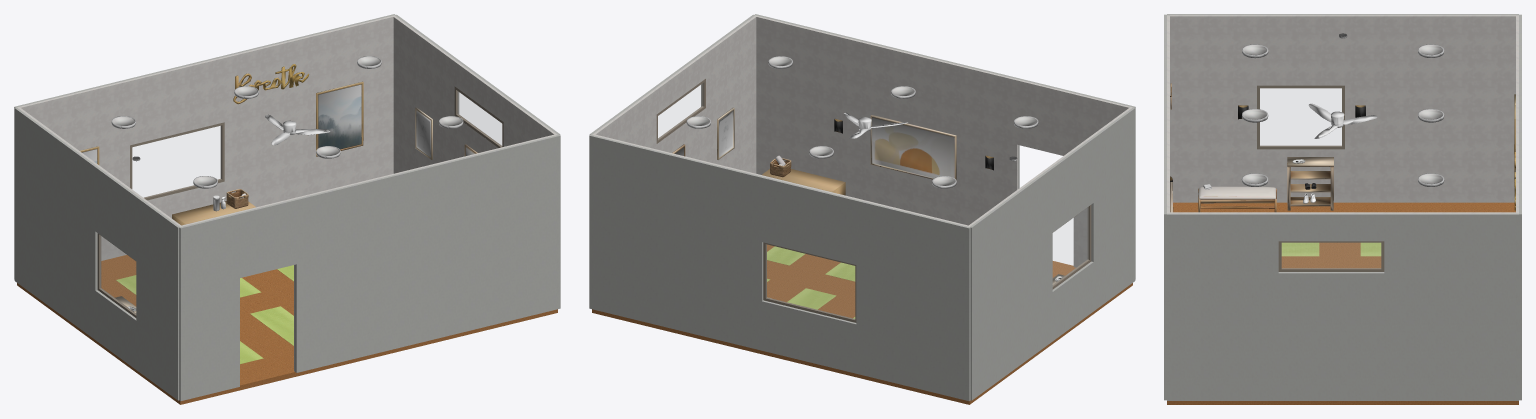
Rendered from scene_named.glb.
3 views of the same model, side by side, from view 1: azimuth 30°, elevation 25°; view 2: azimuth 150°, elevation 25°; view 3: azimuth 270°, elevation 25° (orthographic). The views are drawn at different scales.
Parts seen in each view (by area): view 1: south_wall_exterior_yoga_studio/south_wall_exterior_yoga_stu, north_wall_yoga_studio/north_wall_yoga_studio/geometry_0, west_wall_exterior_yoga_studio/west_wall_exterior_yoga_studi, east_wall_yoga_studio/east_wall_yoga_studio/geometry_0, floor_yoga_studio, window_1_yoga_studio/window_1_yoga_studio/glass, photo_print_1, window_2_yoga_studio/window_2_yoga_studio/glass, window_3_yoga_studio/window_3_yoga_studio/glass, south_wall_yoga_studio/south_wall_yoga_studio/geometry_0, window_1_yoga_studio/window_1_yoga_studio/frame, north_wall_exterior_yoga_studio/north_wall_exterior_yoga_stu (+9 smaller); view 2: north_wall_exterior_yoga_studio/north_wall_exterior_yoga_stu, south_wall_yoga_studio/south_wall_yoga_studio/geometry_0, west_wall_exterior_yoga_studio/west_wall_exterior_yoga_studi, east_wall_yoga_studio/east_wall_yoga_studio/geometry_0, floor_yoga_studio, window_1_yoga_studio/window_1_yoga_studio/glass, wall_art_0, window_2_yoga_studio/window_2_yoga_studio/glass, window_3_yoga_studio/window_3_yoga_studio/glass, south_wall_exterior_yoga_studio/south_wall_exterior_yoga_stu, cubby_unit_0, window_1_yoga_studio/window_1_yoga_studio/frame (+7 smaller); view 3: east_wall_exterior_yoga_studio/east_wall_exterior_yoga_studi, west_wall_yoga_studio/west_wall_yoga_studio/geometry_0, floor_yoga_studio, window_2_yoga_studio/window_2_yoga_studio/glass, window_3_yoga_studio/window_3_yoga_studio/glass, shoe_cubby_shelf_0, entry_bench_0, north_wall_exterior_yoga_studio/north_wall_exterior_yoga_stu, south_wall_exterior_yoga_studio/south_wall_exterior_yoga_stu, window_2_yoga_studio/window_2_yoga_studio/frame, window_3_yoga_studio/window_3_yoga_studio/frame, ceiling_fan_0 (+6 smaller).
Part boxes in pixels (x1,y1,x2,y2): south_wall_exterior_yoga_studio/south_wall_exterior_yoga_stu: (179, 135, 560, 401); north_wall_yoga_studio/north_wall_yoga_studio/geometry_0: (19, 16, 393, 260); west_wall_exterior_yoga_studio/west_wall_exterior_yoga_studi: (14, 107, 179, 400); east_wall_yoga_studio/east_wall_yoga_studio/geometry_0: (392, 15, 557, 173); floor_yoga_studio: (17, 255, 557, 404); window_1_yoga_studio/window_1_yoga_studio/glass: (132, 126, 220, 197); photo_print_1: (316, 81, 363, 156); window_2_yoga_studio/window_2_yoga_studio/glass: (100, 235, 135, 313); window_3_yoga_studio/window_3_yoga_studio/glass: (457, 91, 501, 146); south_wall_yoga_studio/south_wall_yoga_studio/geometry_0: (181, 134, 555, 371); window_1_yoga_studio/window_1_yoga_studio/frame: (130, 122, 224, 200); north_wall_exterior_yoga_studio/north_wall_exterior_yoga_stu: (14, 14, 395, 279); north_wall_exterior_yoga_studio/north_wall_exterior_yoga_stu: (589, 135, 970, 401); south_wall_yoga_studio/south_wall_yoga_studio/geometry_0: (756, 16, 1130, 267); west_wall_exterior_yoga_studio/west_wall_exterior_yoga_studi: (970, 107, 1135, 400); east_wall_yoga_studio/east_wall_yoga_studio/geometry_0: (592, 15, 757, 173); floor_yoga_studio: (592, 244, 1132, 404); window_1_yoga_studio/window_1_yoga_studio/glass: (766, 245, 854, 318); wall_art_0: (870, 115, 956, 180); window_2_yoga_studio/window_2_yoga_studio/glass: (1053, 207, 1088, 285); window_3_yoga_studio/window_3_yoga_studio/glass: (658, 83, 703, 138); south_wall_exterior_yoga_studio/south_wall_exterior_yoga_stu: (754, 14, 1135, 279); cubby_unit_0: (762, 169, 845, 195); window_1_yoga_studio/window_1_yoga_studio/frame: (763, 242, 856, 322); east_wall_exterior_yoga_studio/east_wall_exterior_yoga_studi: (1167, 213, 1518, 400); west_wall_yoga_studio/west_wall_yoga_studio/geometry_0: (1167, 15, 1518, 202); floor_yoga_studio: (1167, 202, 1518, 404); window_2_yoga_studio/window_2_yoga_studio/glass: (1260, 88, 1341, 145); window_3_yoga_studio/window_3_yoga_studio/glass: (1282, 243, 1380, 268); shoe_cubby_shelf_0: (1287, 157, 1333, 210); entry_bench_0: (1198, 186, 1276, 212); north_wall_exterior_yoga_studio/north_wall_exterior_yoga_stu: (1519, 14, 1521, 400); south_wall_exterior_yoga_studio/south_wall_exterior_yoga_stu: (1164, 14, 1166, 400); window_2_yoga_studio/window_2_yoga_studio/frame: (1257, 85, 1344, 149); window_3_yoga_studio/window_3_yoga_studio/frame: (1278, 241, 1384, 271); ceiling_fan_0: (1308, 103, 1377, 138).
Bounding box in the file's own units: 8.1 × 3.6 × 6.1.
37 materials, 35 textured.
